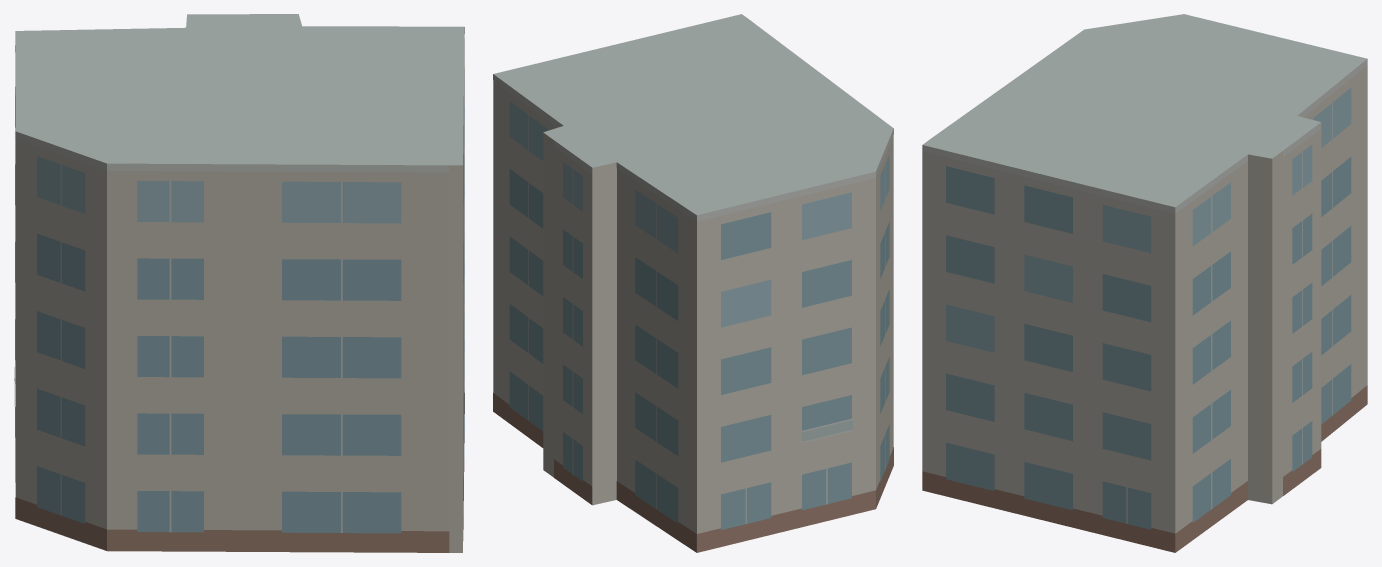
The model's file is survey-upis-32778332.glb.
3 renders of one model, left to right at view 1: azimuth 30°, elevation 25°; view 2: azimuth 150°, elevation 25°; view 3: azimuth 270°, elevation 25°, orthographic. The views are drawn at different scales.
Visible parts, largest first — view 1: survey-upis-32778332.tmp; view 2: survey-upis-32778332.tmp; view 3: survey-upis-32778332.tmp.
Boxes of the visible parts, bbox=[...] form: survey-upis-32778332.tmp: bbox=[14, 14, 464, 552]; survey-upis-32778332.tmp: bbox=[493, 14, 893, 552]; survey-upis-32778332.tmp: bbox=[922, 14, 1367, 552].
Size of the model in its own units: 15.54 by 12.95 by 15.13.
